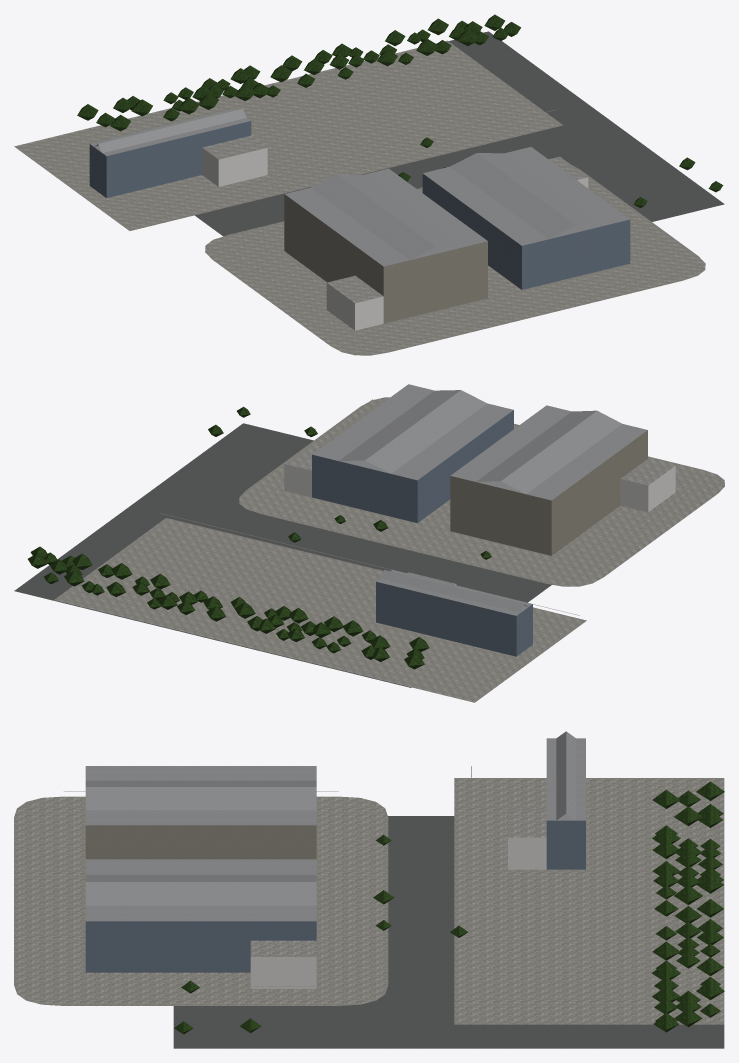
File: cidade_S06_07_lod.gltf
3 renders of one model, top to bottom at view 1: azimuth 30°, elevation 25°; view 2: azimuth 150°, elevation 25°; view 3: azimuth 270°, elevation 25°, orthographic. The views are drawn at different scales.
Visible parts, largest first — view 1: S06_07_Chao_LOD2, S06_07_Edificios_LOD1, S06_07_Silhueta_LOD2, S06_07_Vegetacao_LOD2; view 2: S06_07_Chao_LOD2, S06_07_Edificios_LOD1, S06_07_Silhueta_LOD2, S06_07_Vegetacao_LOD2; view 3: S06_07_Chao_LOD2, S06_07_Edificios_LOD1, S06_07_Silhueta_LOD2, S06_07_Vegetacao_LOD2.
Boxes of the visible parts, box(x1,y1,x2,y2) form: S06_07_Chao_LOD2: box(14, 31, 724, 355); S06_07_Edificios_LOD1: box(89, 108, 685, 332); S06_07_Silhueta_LOD2: box(89, 108, 630, 322); S06_07_Vegetacao_LOD2: box(77, 14, 723, 207); S06_07_Chao_LOD2: box(14, 397, 724, 702); S06_07_Edificios_LOD1: box(159, 390, 705, 656); S06_07_Silhueta_LOD2: box(312, 384, 647, 656); S06_07_Vegetacao_LOD2: box(28, 406, 491, 669); S06_07_Chao_LOD2: box(14, 778, 724, 1048); S06_07_Edificios_LOD1: box(64, 731, 585, 1012); S06_07_Silhueta_LOD2: box(85, 738, 585, 972); S06_07_Vegetacao_LOD2: box(174, 781, 724, 1034).
Size of the model in its own units: 118 by 15.18 by 129.
8 materials, 8 textured.
